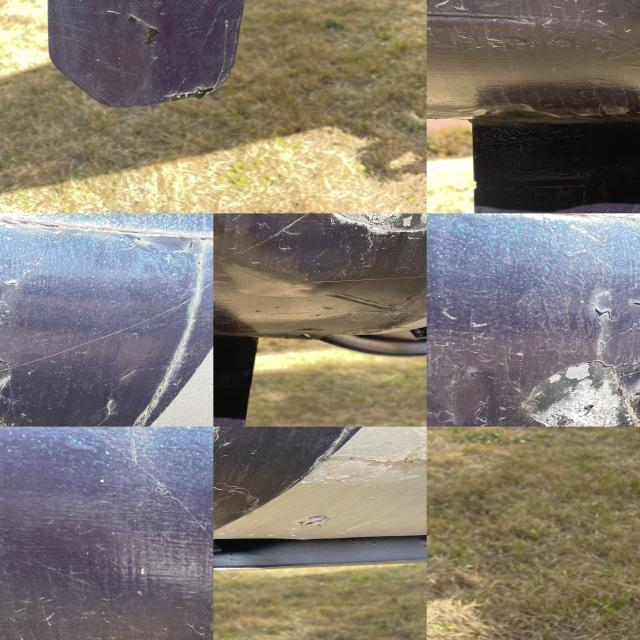crack: (1, 254, 39, 288), (581, 295, 640, 314)
dent: (522, 363, 640, 426)
